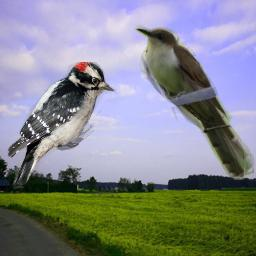Cuckoo: (134, 24, 254, 180)
Woodpecker: (7, 62, 119, 190)
